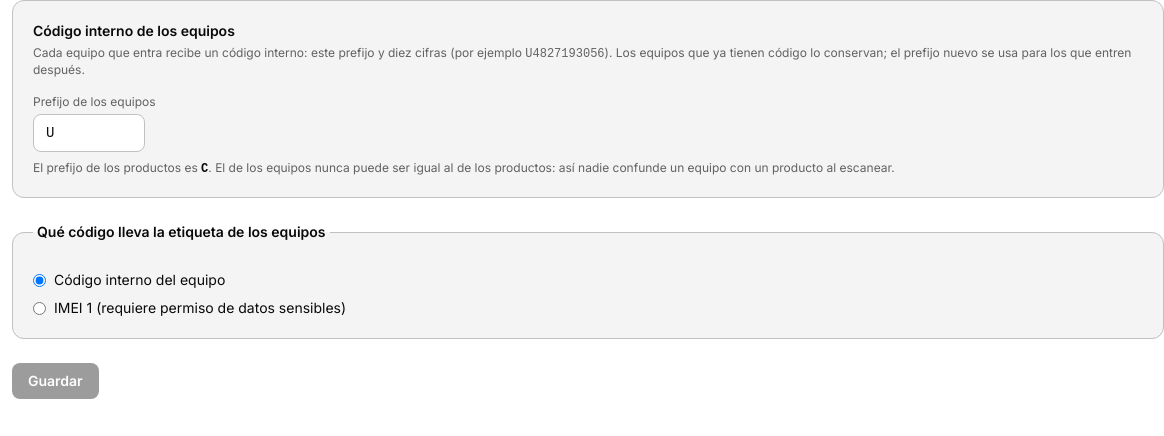
Test: Configuración de etiquetas › avisa antes de enviar un prefijo que no sirve, sin inventar la regla del servidor
The image size is (1164, 436).
Replace the text in the field labelled "Prefijo de los equipos" with "C" at (89,133), box [33,114,145,152]
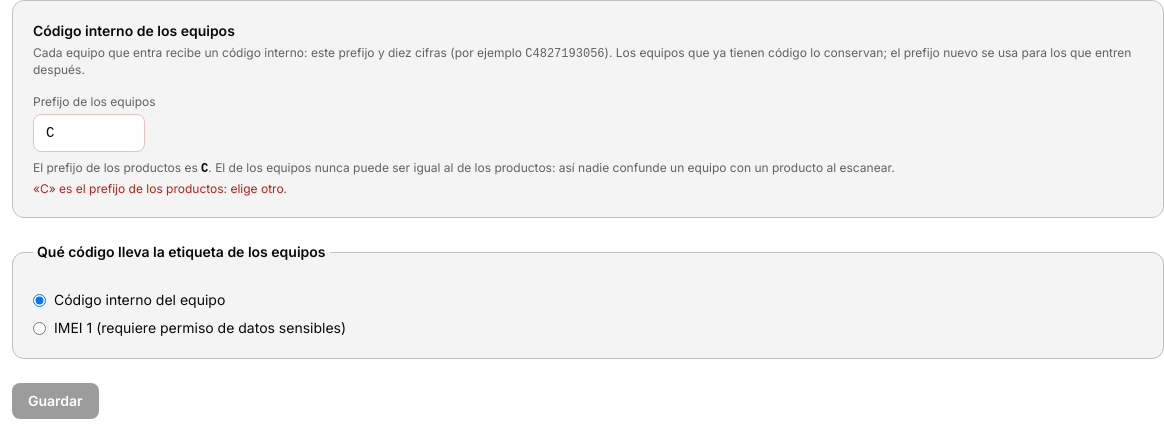
Expected: the button "Guardar" is disabled, [12,383,99,419]
Expected: the text "«C» es el prefijo de los productos: elige otro." is shown, [33,181,287,196]
Replace the text in the field labelled "Prefijo de los equipos" with "A1" at (89,133), box [33,114,145,152]
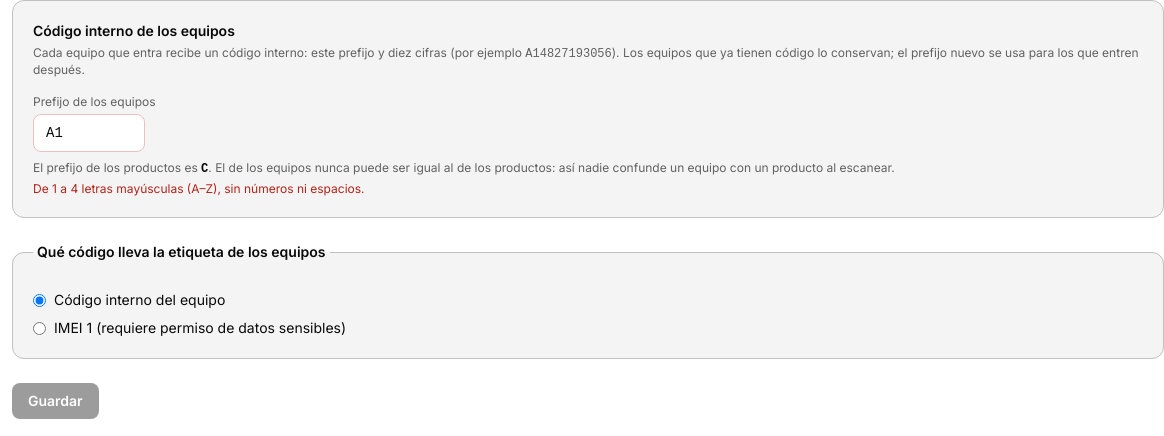
Expected: the button "Guardar" is disabled, [12,383,99,419]
Expected: the text "De 1 a 4 letras mayúsculas (A–Z), sin números ni espacios." is shown, [33,181,365,196]
